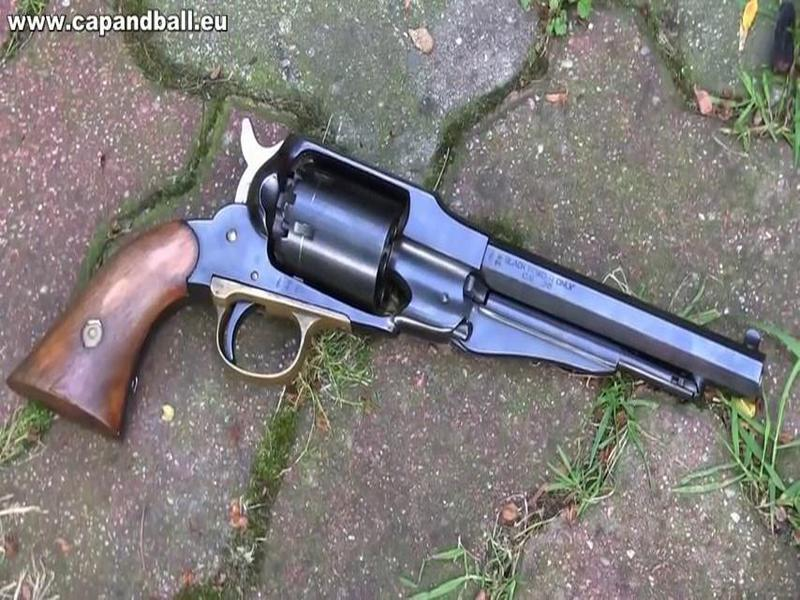Revolver: (187, 114, 777, 458)
